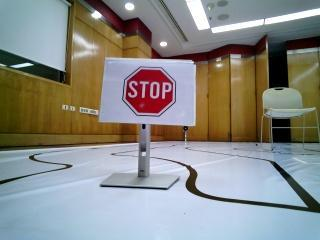stop: (106, 61, 185, 122)
